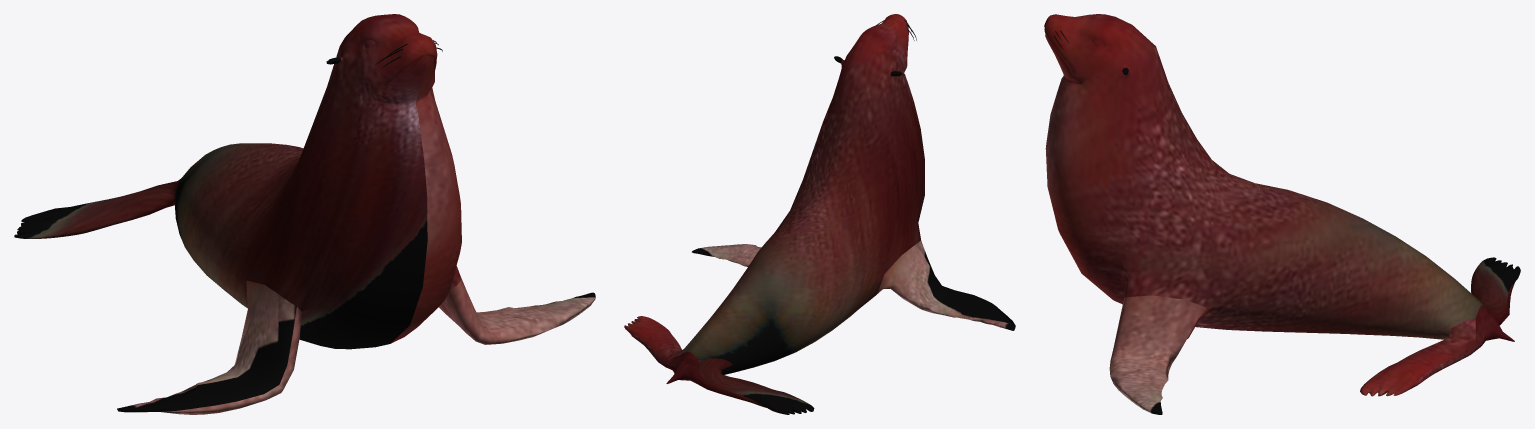
File: seal.fbx
3 views of the same model, side by side, from view 1: azimuth 30°, elevation 25°; view 2: azimuth 150°, elevation 25°; view 3: azimuth 270°, elevation 25° (orthographic). The views are drawn at different scales.
Parts seen in each view (by area): view 1: polySurface1; view 2: polySurface1; view 3: polySurface1.
Part boxes in pixels (x1=…): polySurface1: x1=14, y1=14, x2=595, y2=414; polySurface1: x1=624, y1=14, x2=1015, y2=414; polySurface1: x1=1044, y1=14, x2=1520, y2=414.
Bounding box in the file's own units: 280 × 205 × 291.
